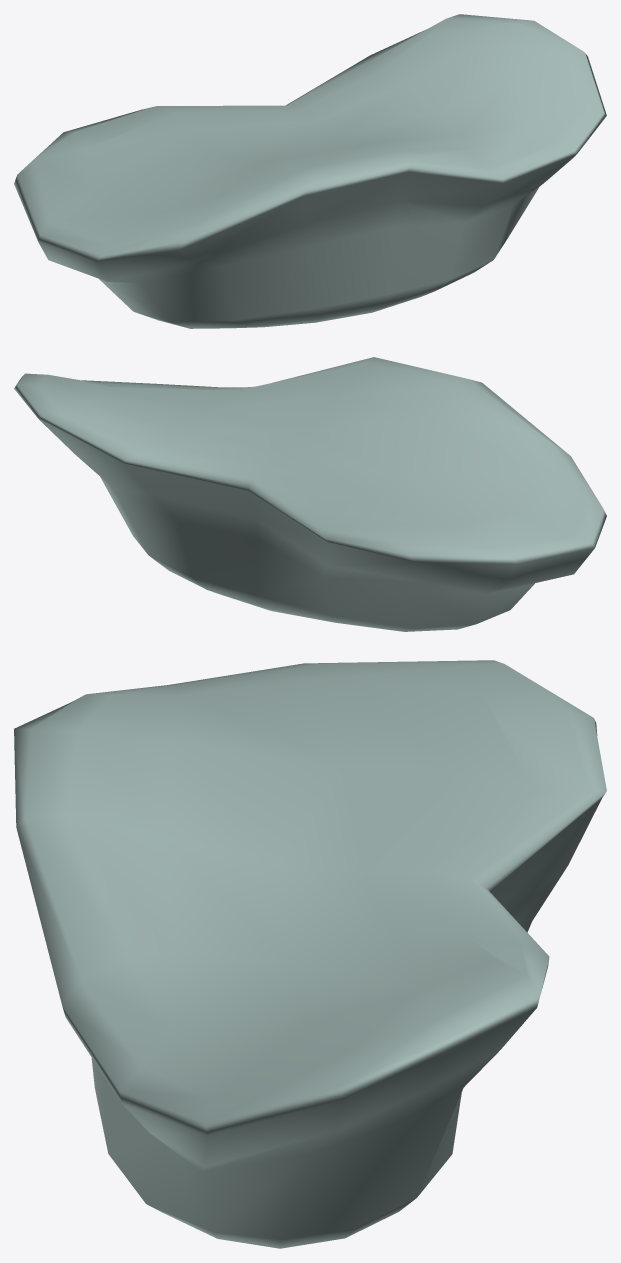
File: SM_Stone_2_Placeholder_V2.fbx
3 views of the same model, one above another, from view 1: azimuth 30°, elevation 25°; view 2: azimuth 150°, elevation 25°; view 3: azimuth 270°, elevation 25° (orthographic). The views are drawn at different scales.
Parts seen in each view (by area): view 1: SM_Stone_2_Placeholder_V2; view 2: SM_Stone_2_Placeholder_V2; view 3: SM_Stone_2_Placeholder_V2.
Part boxes in pixels (bbox=[...]): SM_Stone_2_Placeholder_V2: bbox=[14, 14, 606, 328]; SM_Stone_2_Placeholder_V2: bbox=[14, 357, 606, 631]; SM_Stone_2_Placeholder_V2: bbox=[14, 660, 606, 1248].
Bounding box in the file's own units: 1529 × 498 × 761.
